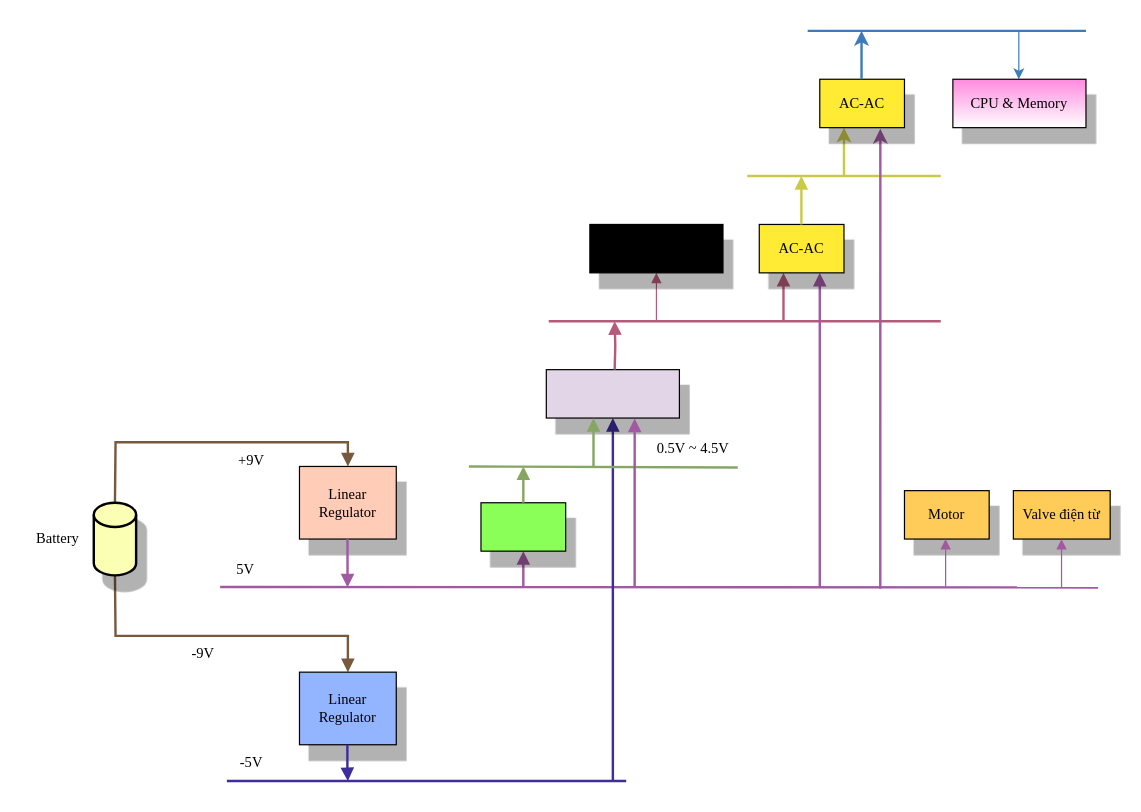
The diagram is 1141 pixels wide and 812 high, and some of its shapes have lost their labels. The shapes that lost their labels are listed below. From the top down, each one's centre as x and y in pixels, then its label:
At [617,401]: "Instrumentation Amplifier".
At [527,534]: "Pressure Sensor".
